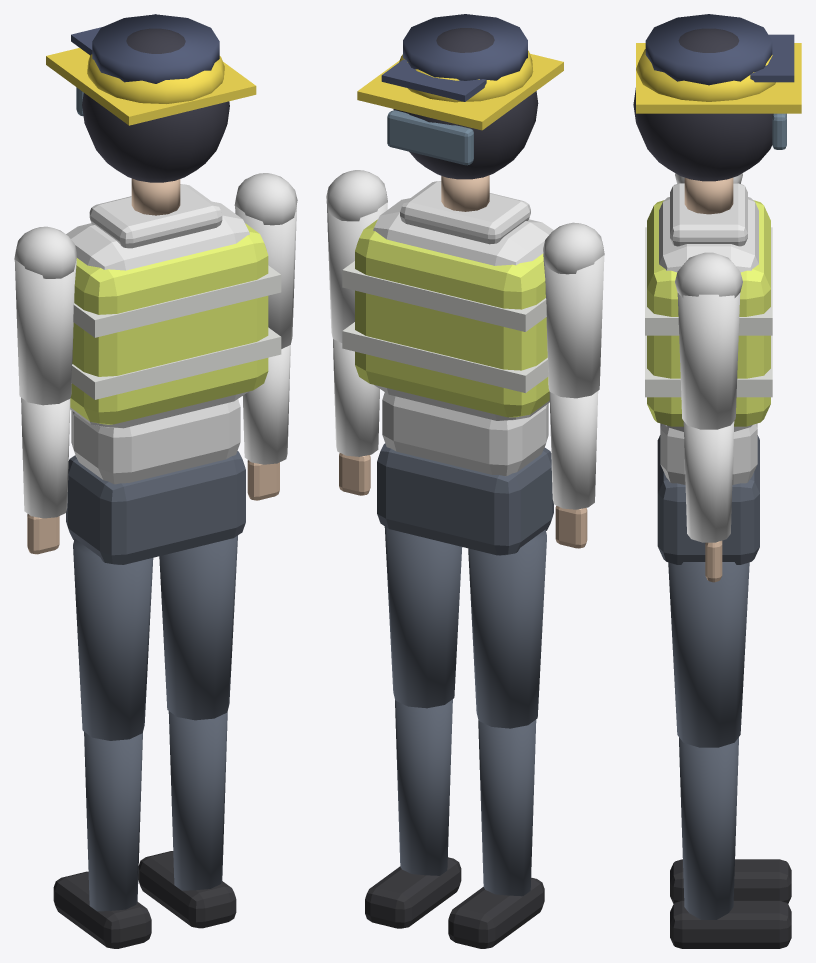
The model's file is RiggedHuman.fbx.
3 renders of one model, left to right at view 1: azimuth 30°, elevation 25°; view 2: azimuth 150°, elevation 25°; view 3: azimuth 270°, elevation 25°, orthographic.
Visible parts, largest first — view 1: RiggedHuman_Vest, RiggedHuman_Pelvis, RiggedHuman_ThighL, RiggedHuman_ThighR, RiggedHuman_Helmet, RiggedHuman_Abdomen_Clothing, RiggedHuman_ShinR, RiggedHuman_ShinL, RiggedHuman_UpperArmL_Clothing, RiggedHuman_Cap, RiggedHuman_Torso_Clothing, RiggedHuman_LowerArmL_Clothing (+14 smaller); view 2: RiggedHuman_Vest, RiggedHuman_Pelvis, RiggedHuman_ThighL, RiggedHuman_ThighR, RiggedHuman_ShinL, RiggedHuman_ShinR, RiggedHuman_Abdomen_Clothing, RiggedHuman_UpperArmL_Clothing, RiggedHuman_Cap, RiggedHuman_Torso_Clothing, RiggedHuman_Helmet, RiggedHuman_LowerArmL_Clothing (+16 smaller); view 3: RiggedHuman_ThighR, RiggedHuman_ShinR, RiggedHuman_Vest, RiggedHuman_Helmet, RiggedHuman_UpperArmR_Clothing, RiggedHuman_Cap, RiggedHuman_Pelvis, RiggedHuman_LowerArmR_Clothing, RiggedHuman_ShoeR, RiggedHuman_HardHat_Brim, RiggedHuman_Collar_Clothing, RiggedHuman_Torso_Clothing (+10 smaller).
Part boxes in pixels (left/top/right/bottom): RiggedHuman_Vest: left=70, top=223, right=268, bottom=424; RiggedHuman_Pelvis: left=66, top=451, right=245, bottom=564; RiggedHuman_ThighL: left=73, top=539, right=153, bottom=740; RiggedHuman_ThighR: left=159, top=535, right=237, bottom=720; RiggedHuman_Helmet: left=82, top=28, right=229, bottom=182; RiggedHuman_Abdomen_Clothing: left=71, top=399, right=240, bottom=484; RiggedHuman_ShinR: left=168, top=711, right=227, bottom=890; RiggedHuman_ShinL: left=84, top=732, right=142, bottom=911; RiggedHuman_UpperArmL_Clothing: left=14, top=259, right=76, bottom=405; RiggedHuman_Cap: left=92, top=14, right=219, bottom=83; RiggedHuman_Torso_Clothing: left=66, top=201, right=249, bottom=428; RiggedHuman_LowerArmL_Clothing: left=21, top=397, right=70, bottom=518; RiggedHuman_Vest: left=355, top=219, right=549, bottom=417; RiggedHuman_Pelvis: left=377, top=443, right=553, bottom=555; RiggedHuman_ThighL: left=468, top=529, right=546, bottom=728; RiggedHuman_ThighR: left=384, top=526, right=462, bottom=708; RiggedHuman_ShinL: left=478, top=719, right=536, bottom=896; RiggedHuman_ShinR: left=395, top=699, right=452, bottom=875; RiggedHuman_Abdomen_Clothing: left=382, top=392, right=548, bottom=476; RiggedHuman_UpperArmL_Clothing: left=543, top=254, right=604, bottom=398; RiggedHuman_Cap: left=403, top=14, right=527, bottom=80; RiggedHuman_Torso_Clothing: left=373, top=198, right=553, bottom=420; RiggedHuman_Helmet: left=393, top=28, right=538, bottom=179; RiggedHuman_LowerArmL_Clothing: left=549, top=391, right=598, bottom=509; RiggedHuman_ThighR: left=668, top=562, right=749, bottom=747; RiggedHuman_ShinR: left=679, top=737, right=738, bottom=919; RiggedHuman_Vest: left=647, top=200, right=770, bottom=426; RiggedHuman_Helmet: left=633, top=28, right=772, bottom=181; RiggedHuman_UpperArmR_Clothing: left=677, top=293, right=740, bottom=429; RiggedHuman_Cap: left=645, top=14, right=772, bottom=85; RiggedHuman_Pelvis: left=657, top=435, right=759, bottom=564; RiggedHuman_LowerArmR_Clothing: left=683, top=421, right=734, bottom=542; RiggedHuman_ShoeR: left=670, top=900, right=791, bottom=948; RiggedHuman_HardHat_Brim: left=636, top=43, right=801, bottom=113; RiggedHuman_Collar_Clothing: left=670, top=183, right=747, bottom=246; RiggedHuman_Torso_Clothing: left=659, top=197, right=758, bottom=431.
Size of the model in its own units: 0.6436 by 2.01 by 0.345.
